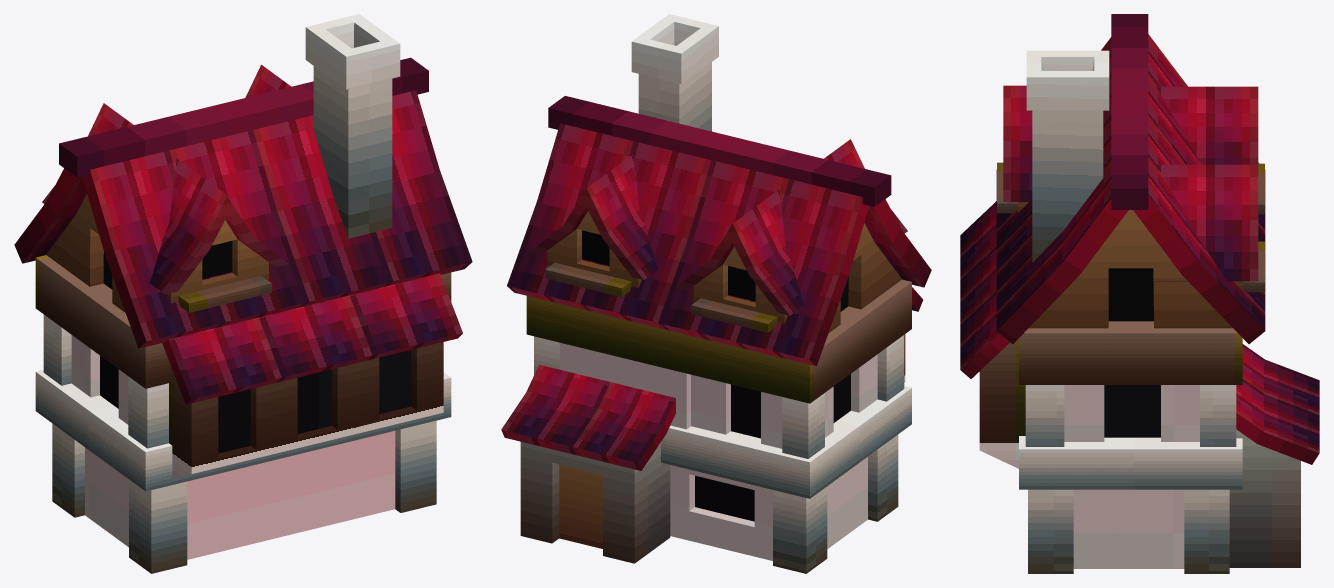
The model's file is simple_low_poly_house_lvl7.glb.
The picture shows the model from 3 angles, left to right: view 1: azimuth 30°, elevation 25°; view 2: azimuth 150°, elevation 25°; view 3: azimuth 270°, elevation 25°; orthographic projection. The views are drawn at different scales.
Parts seen in each view (by area): view 1: house_lvl7_houses_0; view 2: house_lvl7_houses_0; view 3: house_lvl7_houses_0.
Boxes of the visible parts, box(x1,y1,x2,y2) form: house_lvl7_houses_0: box(14, 14, 472, 573); house_lvl7_houses_0: box(501, 14, 931, 573); house_lvl7_houses_0: box(960, 14, 1319, 573).
Bounding box in the file's own units: 5.59 × 7.13 × 4.86.
1 material, 1 textured.
